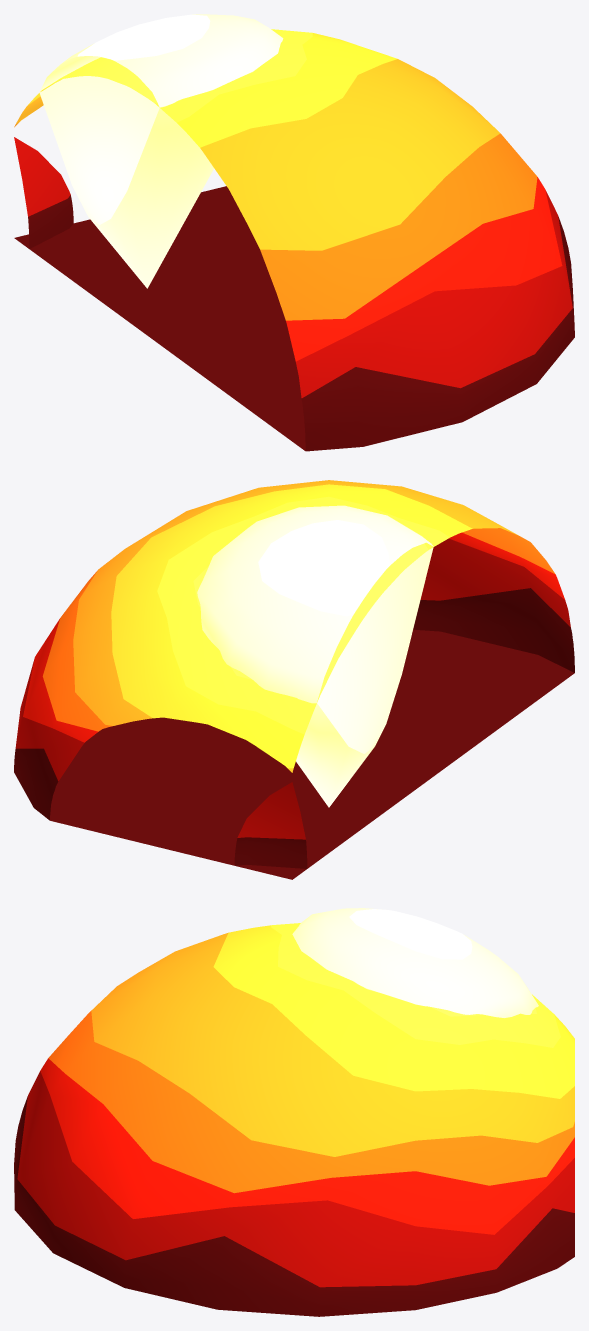
The model's file is shot_charge_b247.glb.
3 views of the same model, one above another, from view 1: azimuth 30°, elevation 25°; view 2: azimuth 150°, elevation 25°; view 3: azimuth 270°, elevation 25° (orthographic). The views are drawn at different scales.
Visible parts, largest first — view 1: charge_twin7_a_fire_shot_charge_b247, charge_twin7_a_core_shot_charge_b247, charge_twin7_b_fire_shot_charge_b247; view 2: charge_twin7_a_fire_shot_charge_b247, charge_twin7_a_core_shot_charge_b247, charge_twin7_b_fire_shot_charge_b247; view 3: charge_twin7_a_fire_shot_charge_b247, charge_twin7_a_core_shot_charge_b247.
Part boxes in pixels (<box>): charge_twin7_a_fire_shot_charge_b247: <box>14,29,574,451</box>; charge_twin7_a_core_shot_charge_b247: <box>39,14,283,288</box>; charge_twin7_b_fire_shot_charge_b247: <box>14,137,73,248</box>; charge_twin7_a_fire_shot_charge_b247: <box>14,480,574,879</box>; charge_twin7_a_core_shot_charge_b247: <box>197,505,433,807</box>; charge_twin7_b_fire_shot_charge_b247: <box>234,782,307,879</box>; charge_twin7_a_fire_shot_charge_b247: <box>14,923,574,1316</box>; charge_twin7_a_core_shot_charge_b247: <box>292,908,538,1017</box>.
Bounding box in the file's own units: 8 × 5.37 × 10.92.
